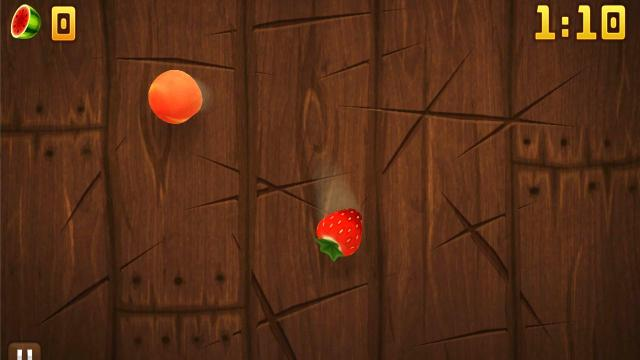fruit: (148, 69, 202, 125), (314, 208, 362, 260)
ignore: (8, 3, 42, 41)
